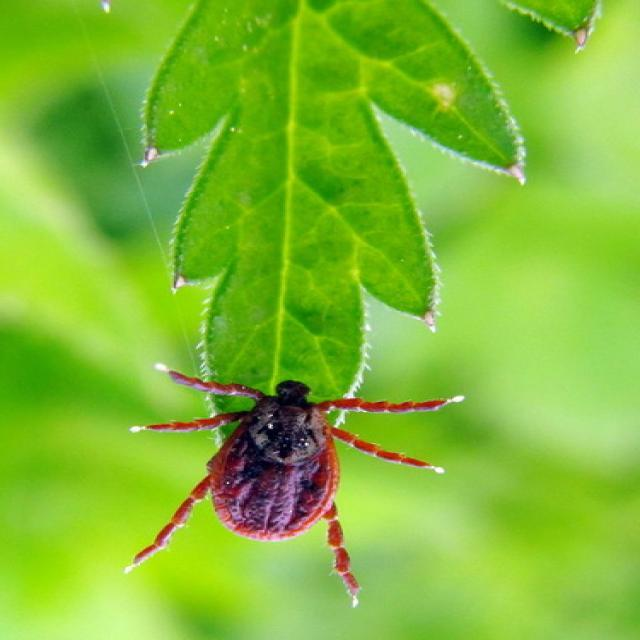Dermacentor Reticulatus-F: (125, 362, 466, 607)
